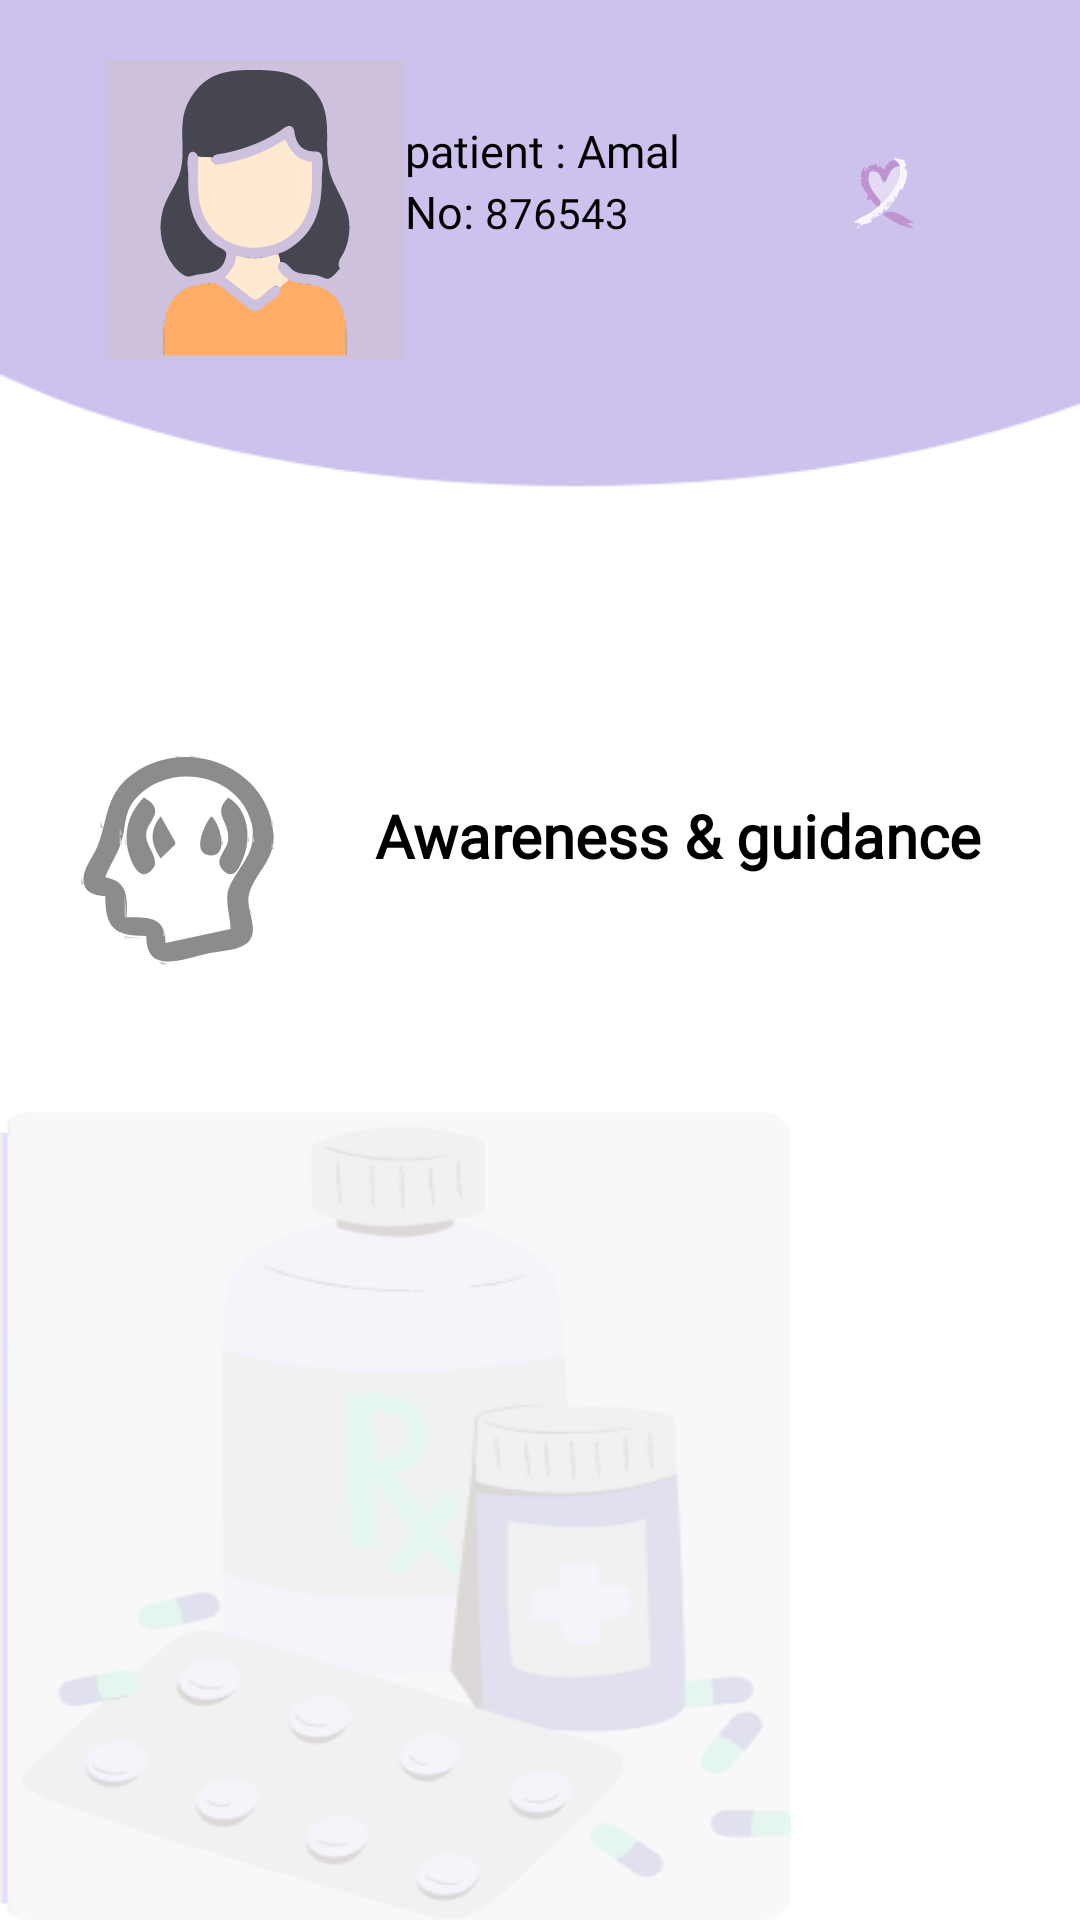

Point at icon controls on the screen. Image size 1080x1920, points as (x,y).
person: (255,213)
